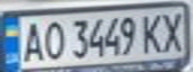3: (66, 16, 90, 60)
4: (103, 14, 124, 57), (87, 15, 106, 57)
9: (118, 12, 139, 56)
A: (18, 19, 48, 63)
K: (139, 11, 166, 54)
O: (39, 17, 66, 62)
X: (157, 8, 190, 53)
